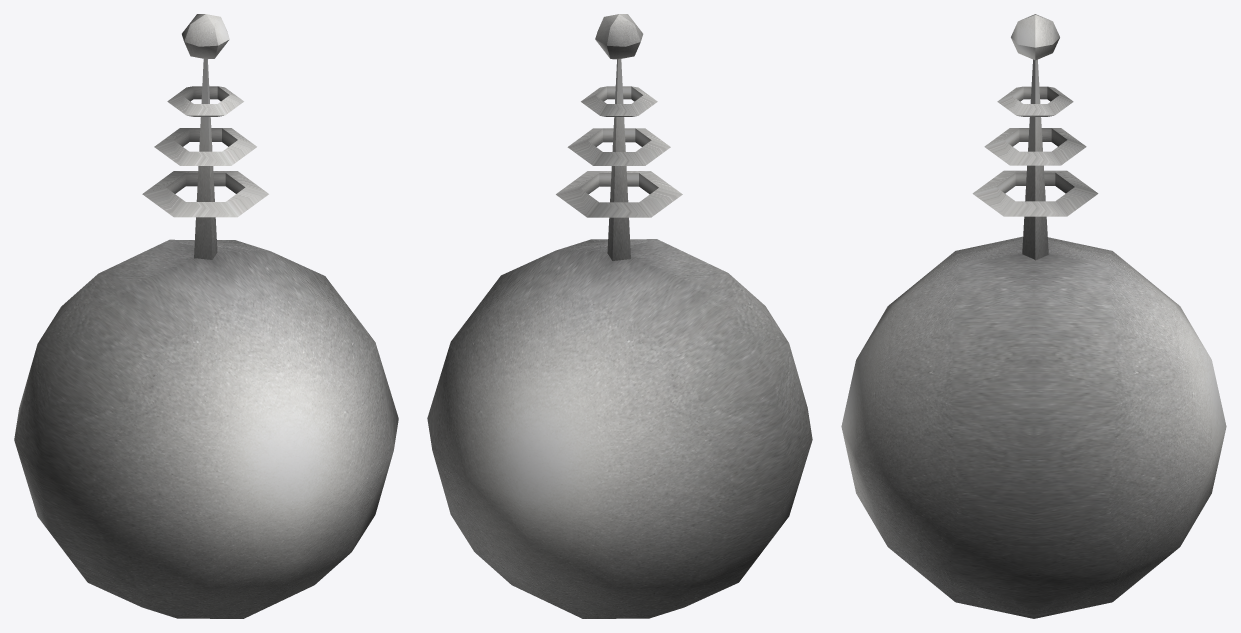
Rendered from mm9_deco_orblinking.glb.
3 renders of one model, left to right at view 1: azimuth 30°, elevation 25°; view 2: azimuth 150°, elevation 25°; view 3: azimuth 270°, elevation 25°, orthographic.
Parts seen in each view (by area): view 1: Orblinking; view 2: Orblinking; view 3: Orblinking.
Part boxes in pixels (bbox=[...]): Orblinking: bbox=[14, 14, 398, 618]; Orblinking: bbox=[427, 14, 812, 618]; Orblinking: bbox=[841, 14, 1226, 618].
Size of the model in its own units: 0.3876 by 0.6511 by 0.3876.
Materials: 2 (2 with a texture image).
